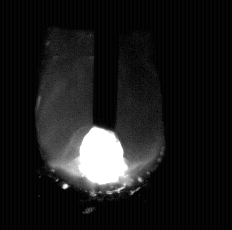arame: (92, 0, 119, 134)
poca: (35, 0, 164, 230)
